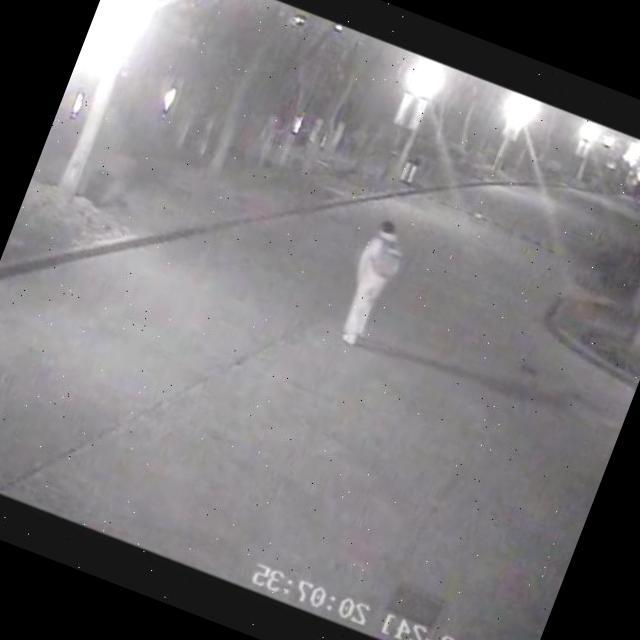person: (318, 198, 432, 364)
